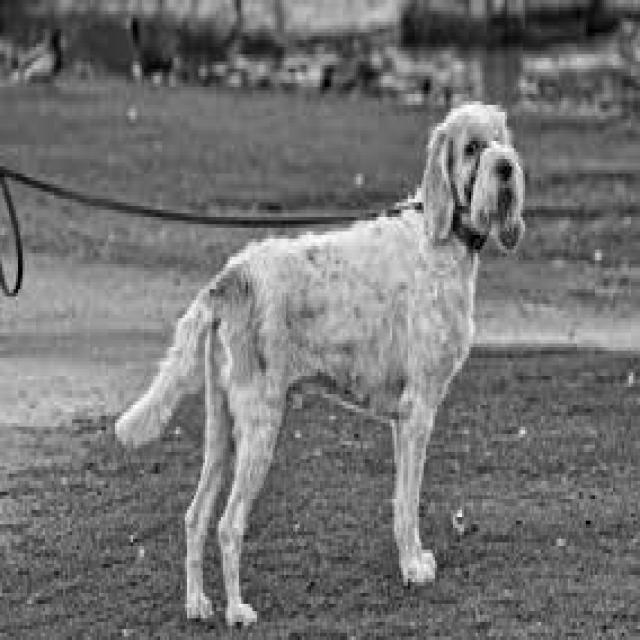good: (118, 102, 526, 622)
